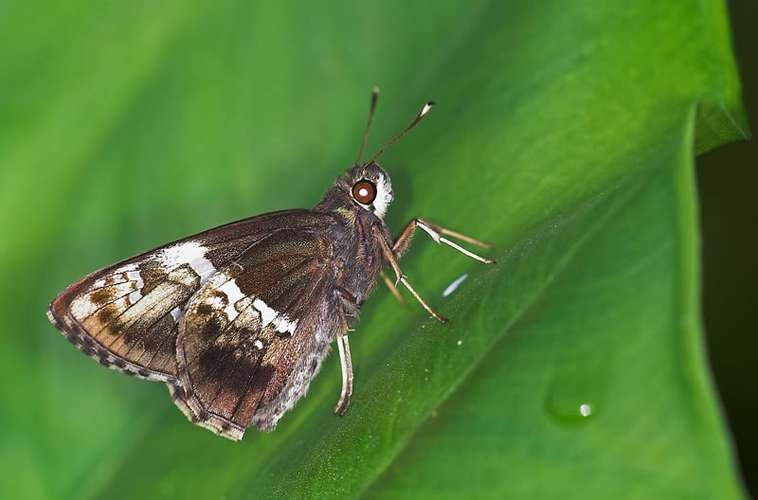Hesperiidae: (44, 85, 495, 445)
